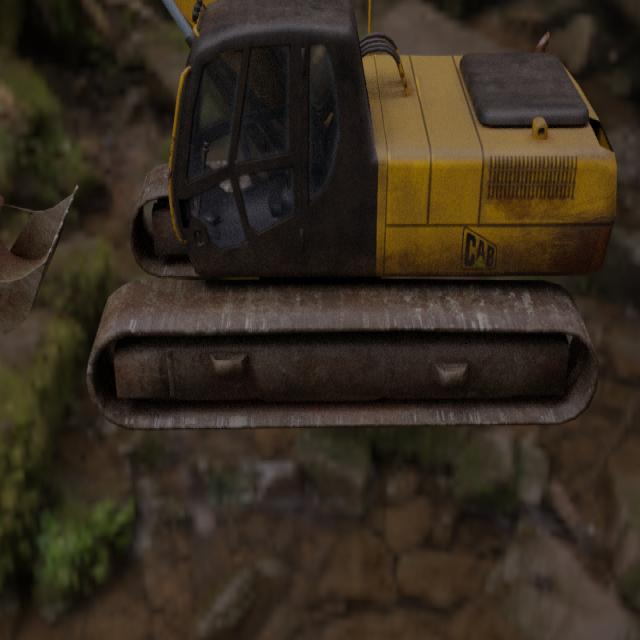excavator: (0, 0, 618, 432)
